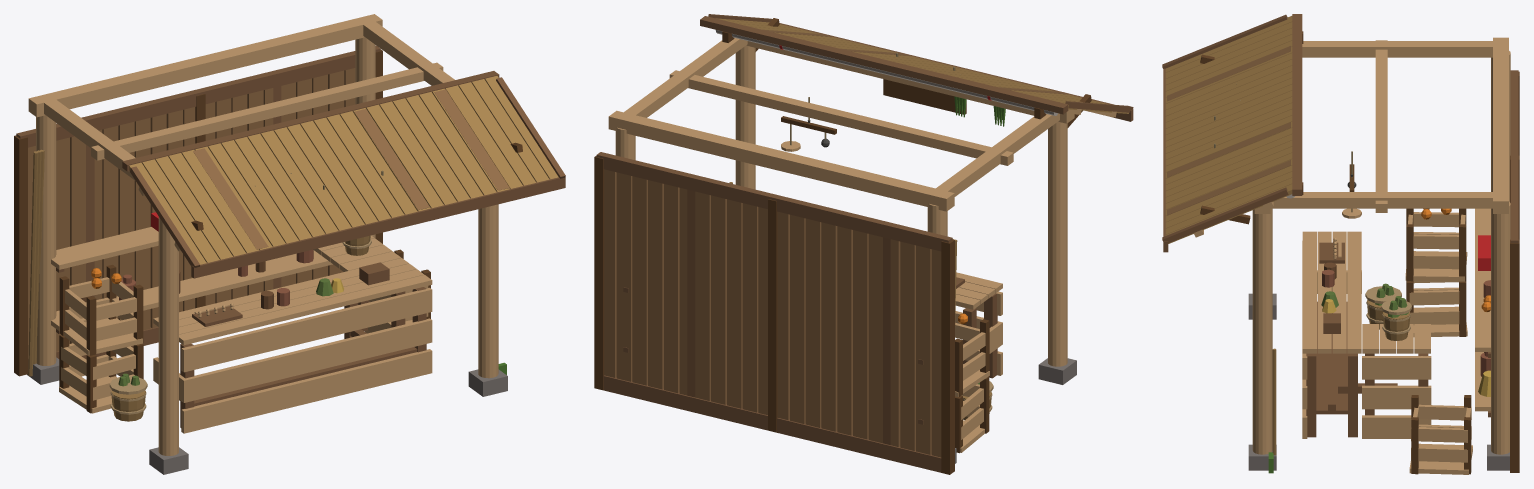
Rendered from lib_lib_shop_stall.glb.
3 renders of one model, left to right at view 1: azimuth 30°, elevation 25°; view 2: azimuth 150°, elevation 25°; view 3: azimuth 270°, elevation 25°, orthographic. The views are drawn at different scales.
Visible parts, largest first — view 1: lib_shop_stall; view 2: lib_shop_stall; view 3: lib_shop_stall.
Part boxes in pixels (<box>): lib_shop_stall: <box>14,14,565,474</box>; lib_shop_stall: <box>594,14,1133,474</box>; lib_shop_stall: <box>1162,14,1519,474</box>.
Size of the model in its own units: 4.19 by 3.2 by 3.6.
2 materials, 2 textured.
